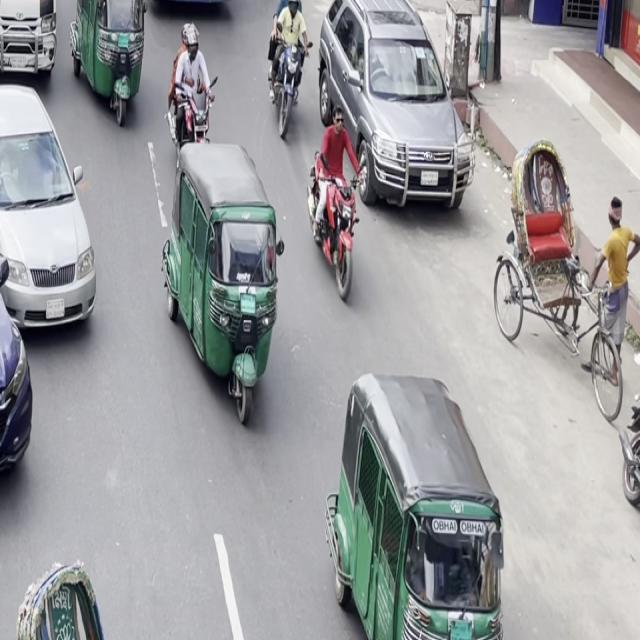bus: (110, 0, 247, 13)
car: (311, 0, 480, 221), (0, 71, 109, 340), (0, 120, 50, 524), (0, 0, 66, 95)
motorbike: (304, 107, 366, 307), (162, 19, 222, 166), (261, 0, 313, 140)
rickshaw: (322, 356, 521, 639), (152, 123, 298, 426), (65, 0, 157, 135)
